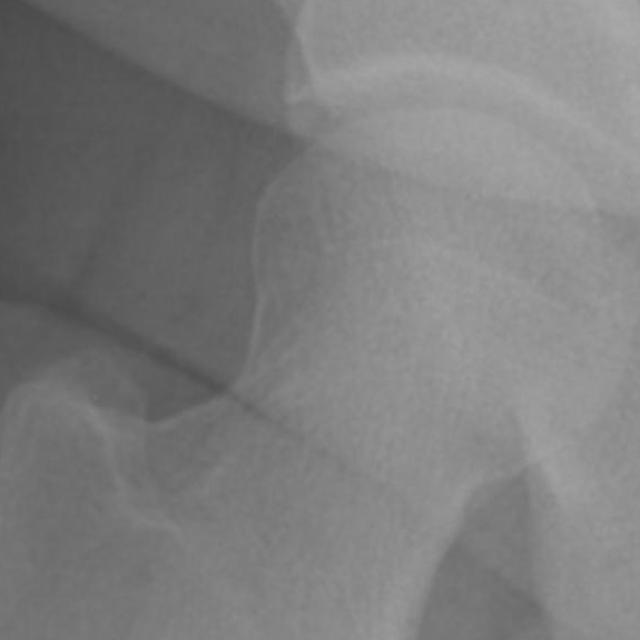Fitted_femural_head: (398, 108, 432, 398)
